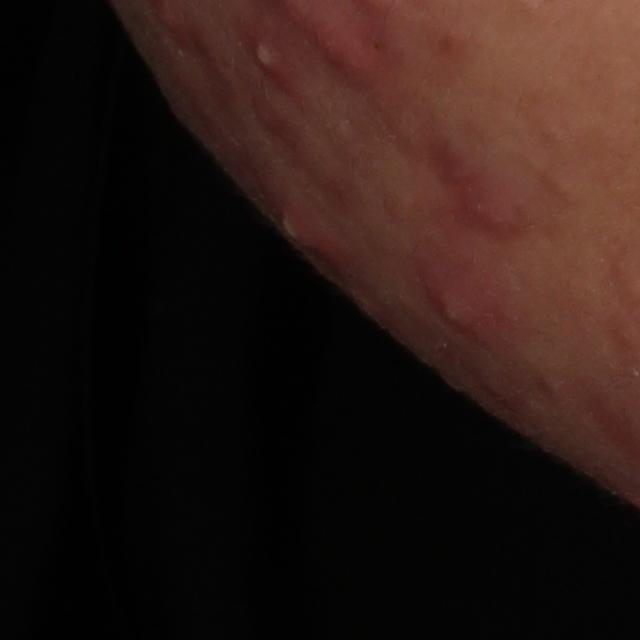comedo: (550, 175, 576, 198)
papule: (432, 122, 548, 240), (408, 251, 514, 349)
pustule: (236, 29, 299, 98), (280, 196, 333, 261)
